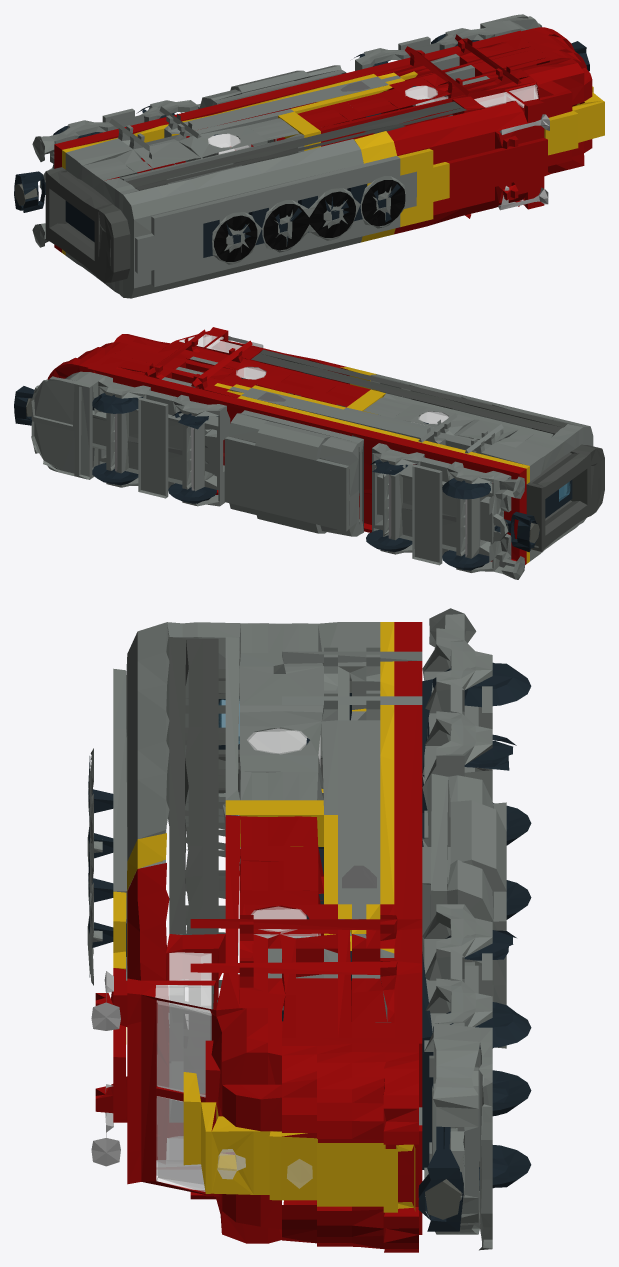
Rendered from santa-fe-super-chief.glb.
3 views of the same model, one above another, from view 1: azimuth 30°, elevation 25°; view 2: azimuth 150°, elevation 25°; view 3: azimuth 270°, elevation 25° (orthographic). The views are drawn at different scales.
Bounding box in the file's own units: 273 × 59.71 × 101.
